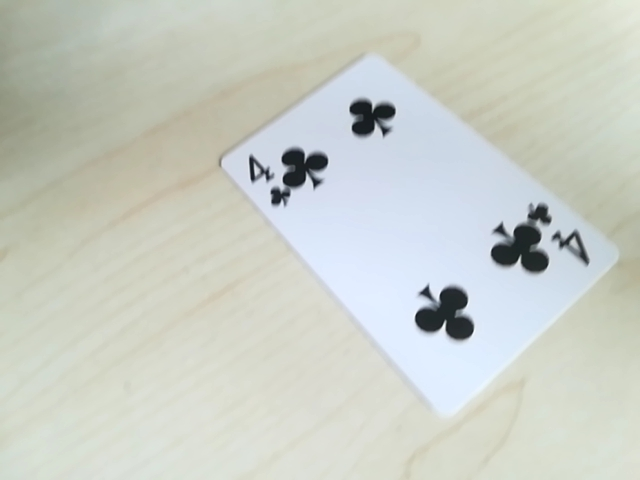mh 4: (521, 197, 592, 270), (239, 145, 291, 211)
